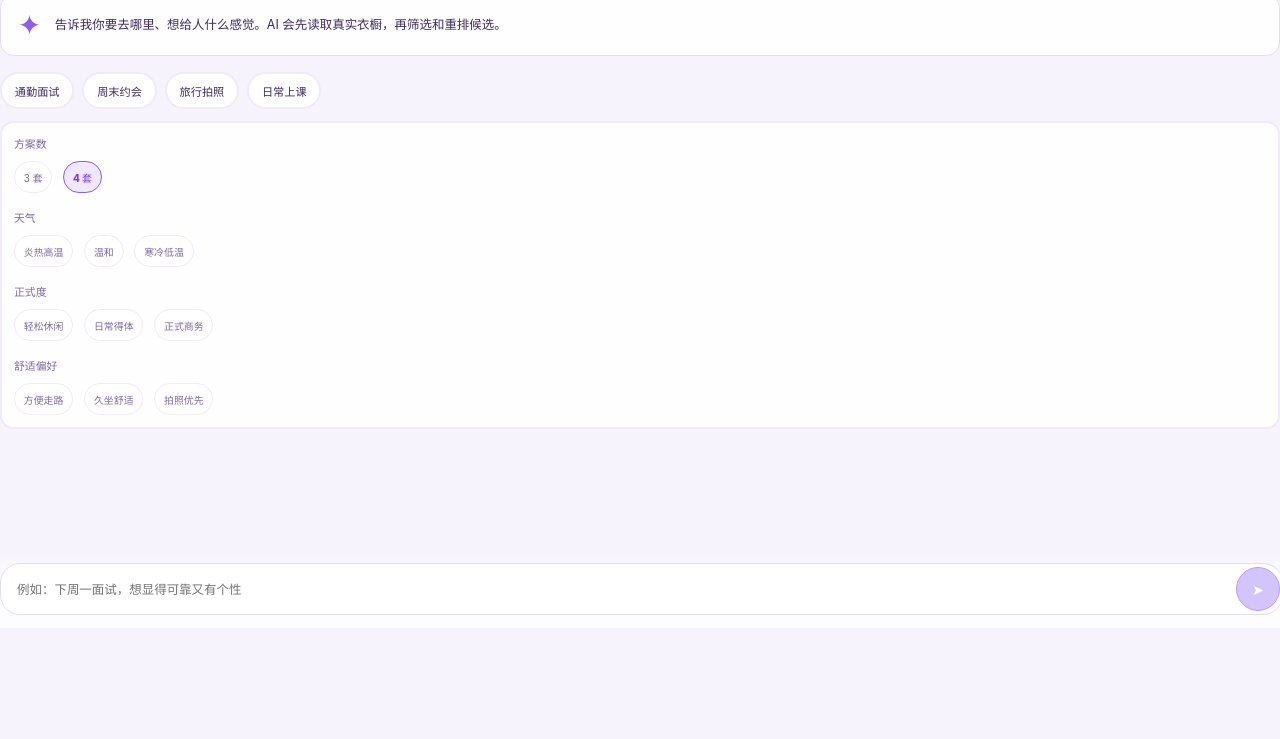
Test case: AI recommendation recovery › keeps the thread open so the next message can adjust the last answer
Type "周五面试" into the field named "穿搭需求" at (640, 589), box [0,563,1279,615]
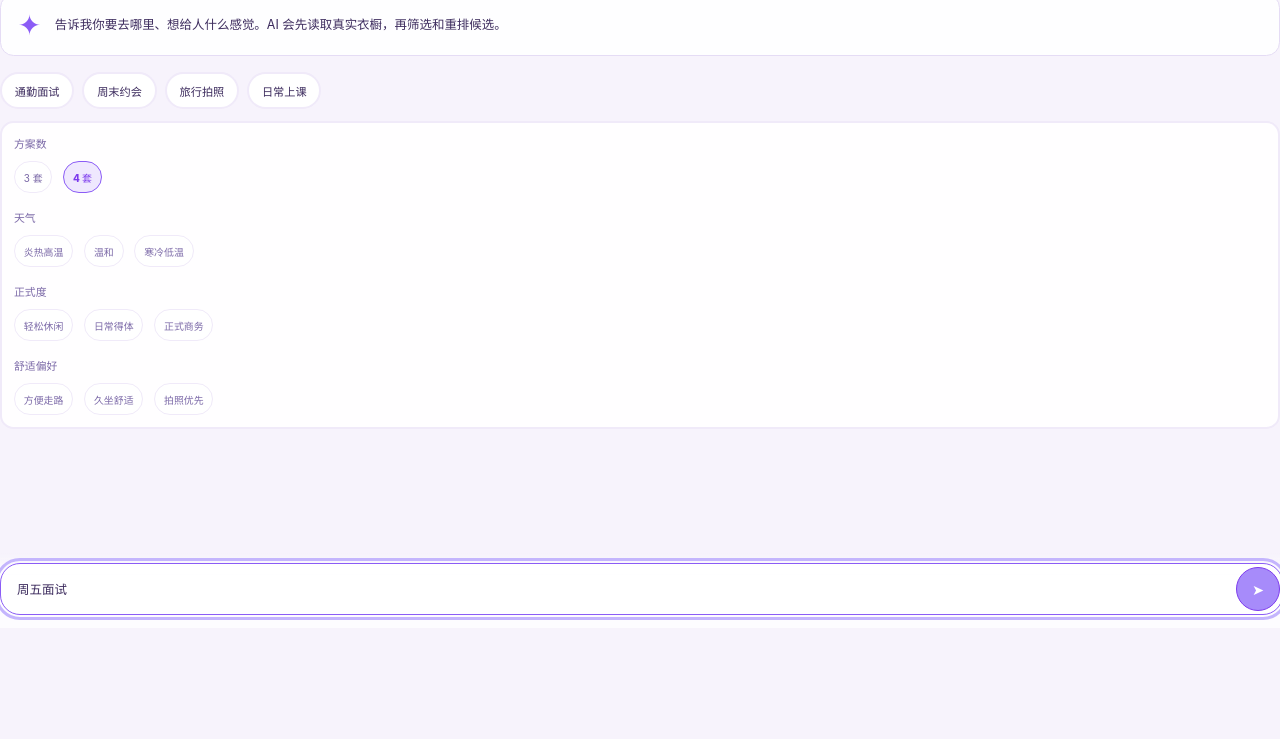
Click the button named "生成穿搭推荐" at (1258, 589), box [1236,567,1279,611]
(page scrolled)
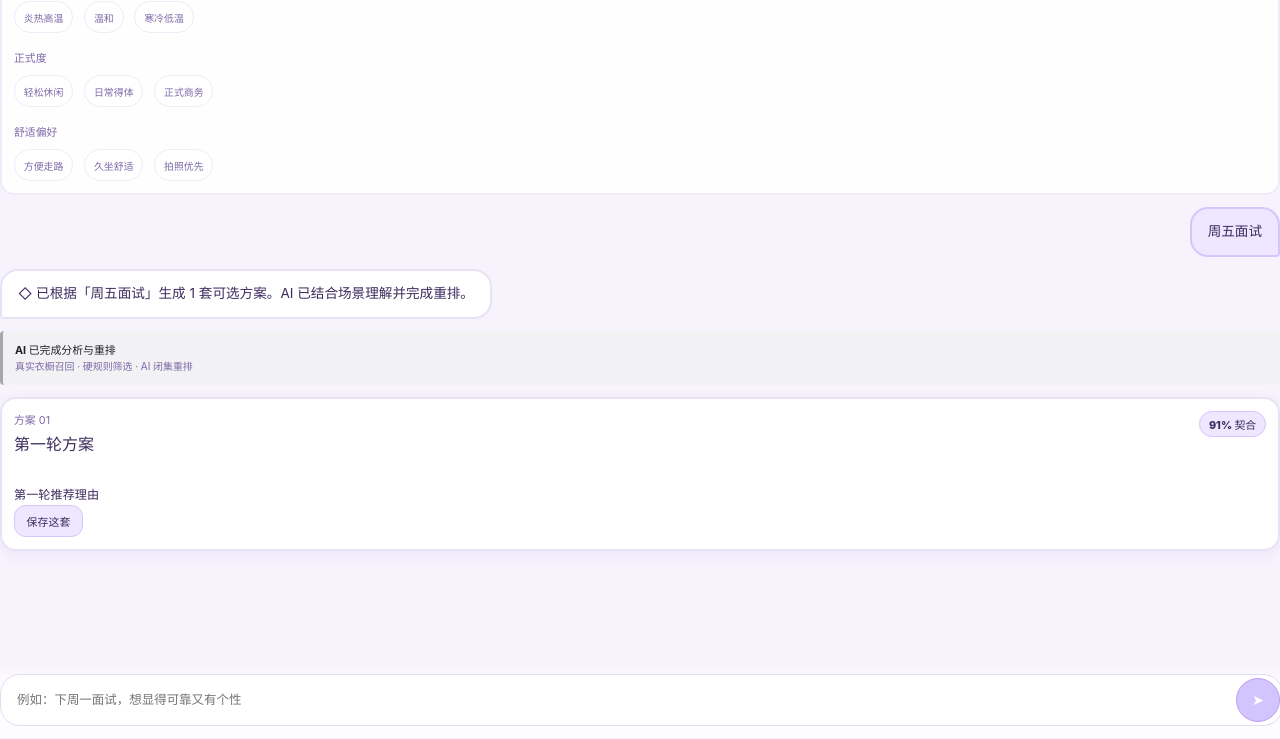
Now the text "周五面试" is shown, box [1190,207,1279,257]
Type "鞋子换平底" into the field named "穿搭需求" at (640, 700), box [0,674,1279,726]
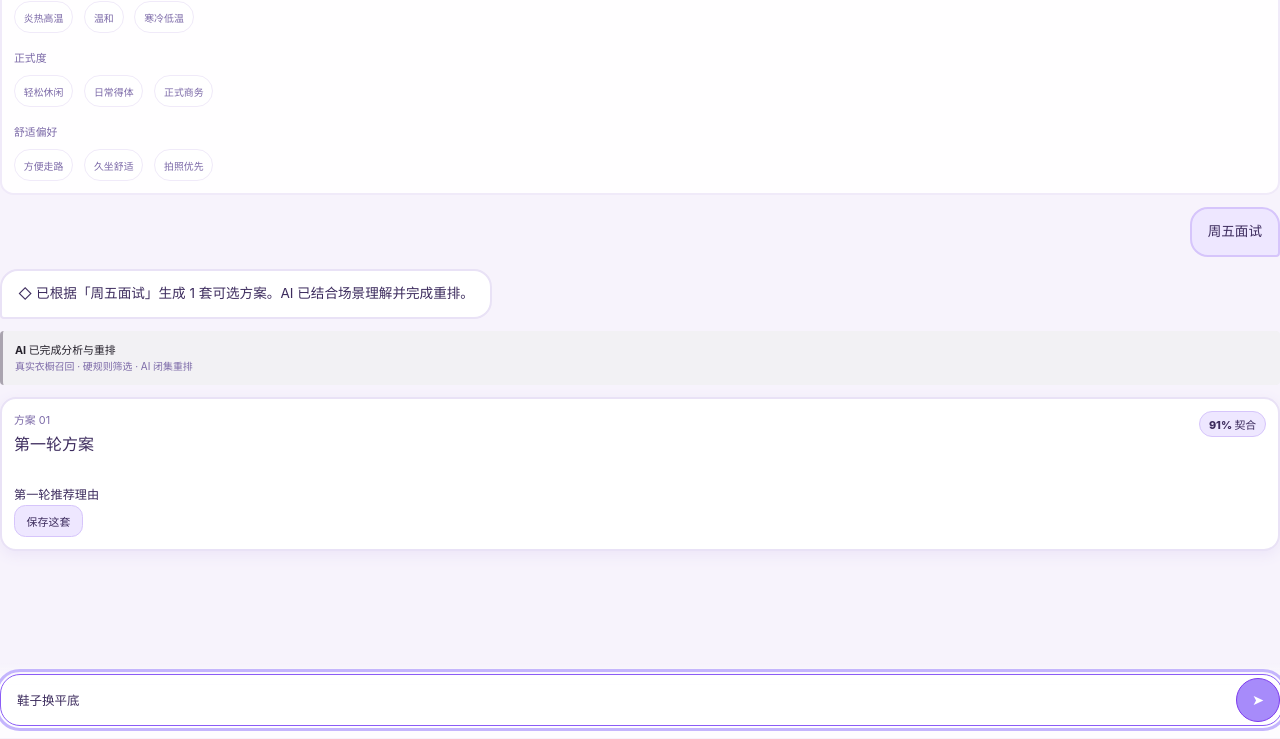
Click the button named "生成穿搭推荐" at (1258, 700), box [1236,678,1279,722]
(page scrolled)
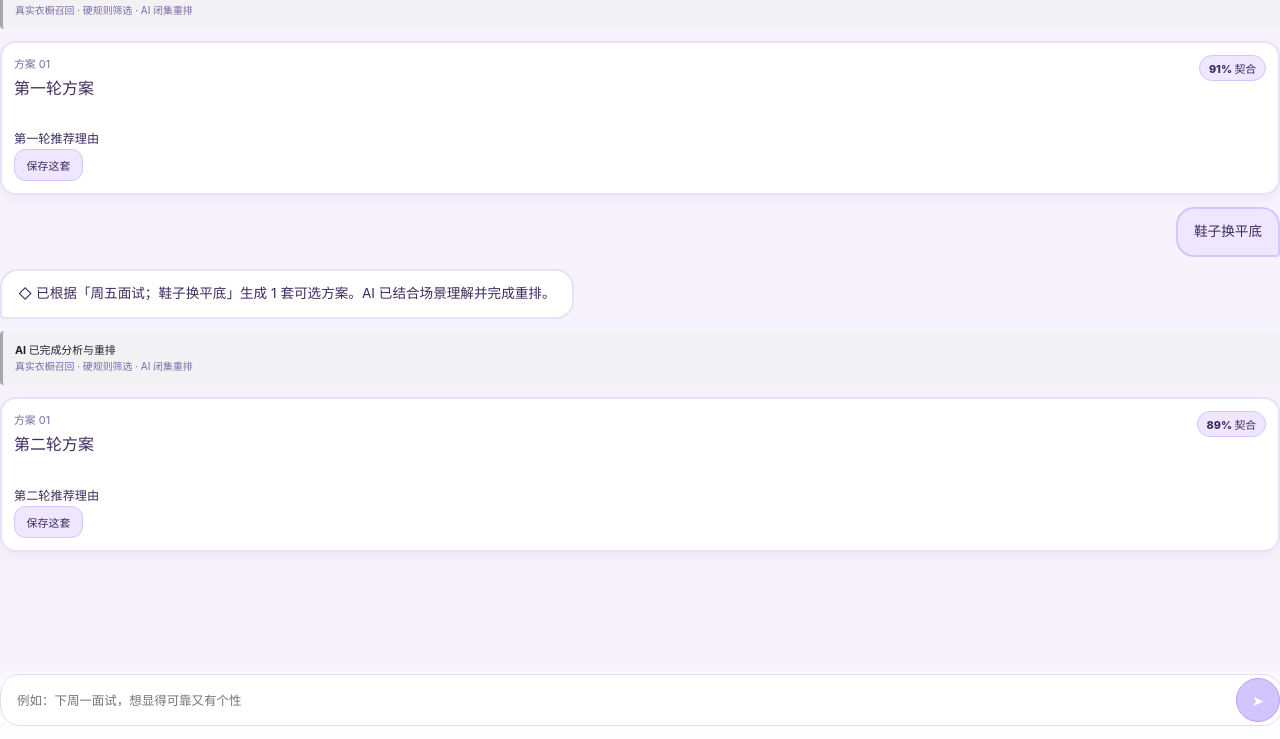
Now the heading "第一轮方案" is shown, box [14,75,94,99]
Now the text "鞋子换平底" is shown, box [1176,207,1279,257]
Now the heading "第二轮方案" is shown, box [14,431,94,455]
